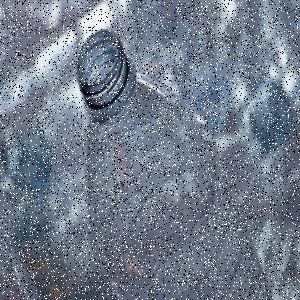Plastic-bottle: (76, 28, 274, 300)
